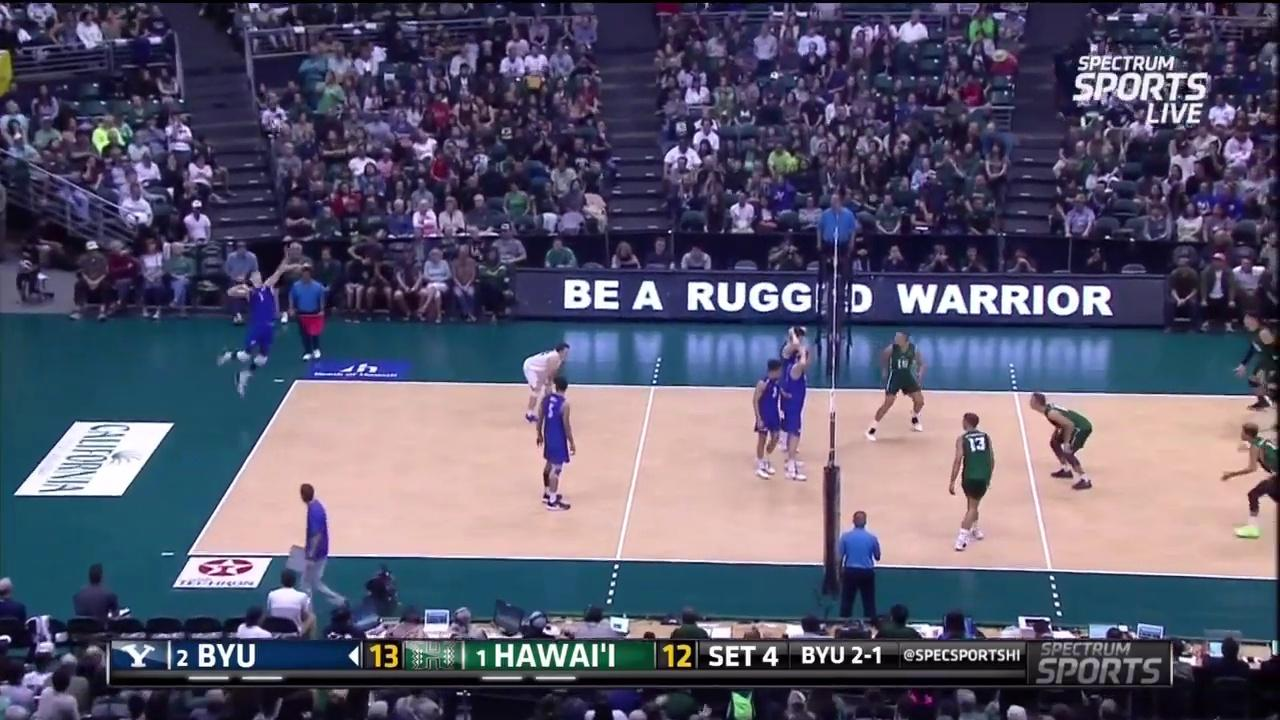player: (219, 254, 294, 399), (532, 376, 579, 518), (950, 415, 997, 548), (1030, 395, 1097, 486), (752, 357, 800, 481), (1225, 423, 1277, 537), (1228, 309, 1280, 416), (870, 333, 923, 435), (783, 346, 817, 489), (513, 343, 571, 419), (778, 323, 811, 452)
refree: (829, 506, 883, 621), (813, 186, 864, 293), (289, 266, 328, 360)
